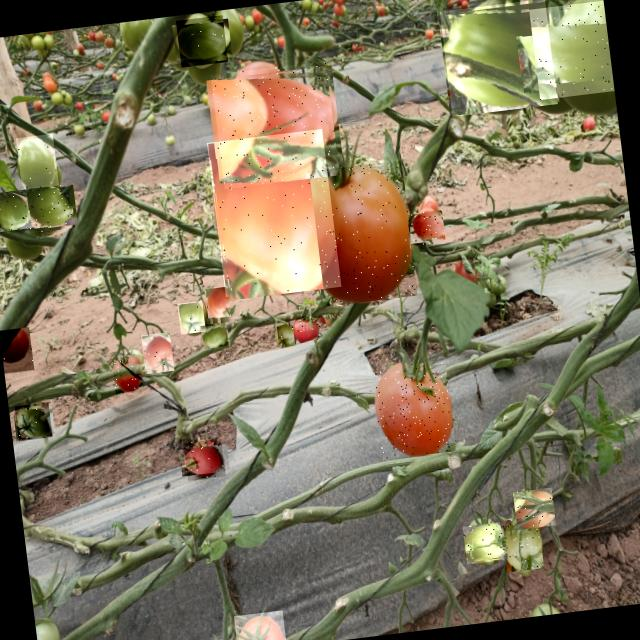Ripe Tomato: (206, 128, 342, 300), (210, 60, 340, 188), (308, 160, 418, 306), (371, 360, 456, 460), (183, 438, 225, 480), (0, 327, 34, 376), (233, 609, 286, 640), (140, 332, 174, 374), (408, 210, 444, 246), (111, 354, 143, 394), (204, 286, 232, 324), (292, 313, 322, 342)
Unripe Tomato: (439, 0, 557, 116), (528, 0, 614, 100), (175, 15, 228, 67), (499, 516, 544, 572), (24, 182, 74, 232), (16, 133, 58, 190), (512, 488, 556, 530), (462, 522, 504, 564), (15, 402, 52, 441), (0, 188, 31, 232), (177, 300, 206, 334), (198, 322, 228, 348), (275, 322, 295, 348)
